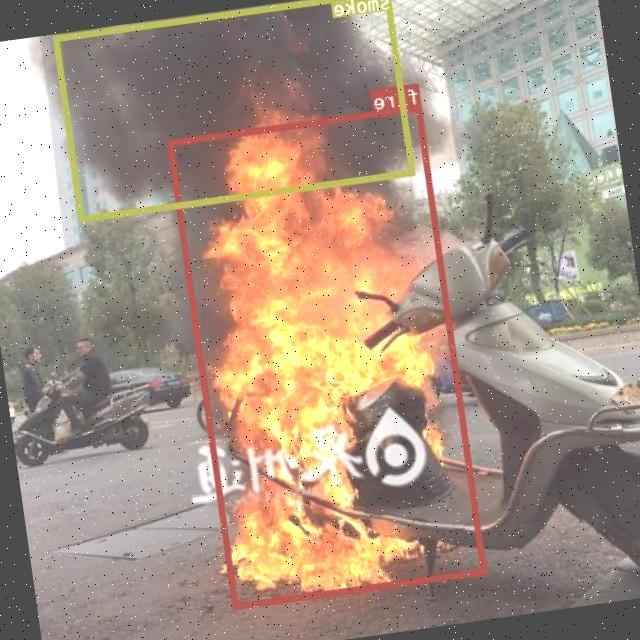fire: (169, 104, 488, 608)
smoke: (54, 0, 416, 220)
